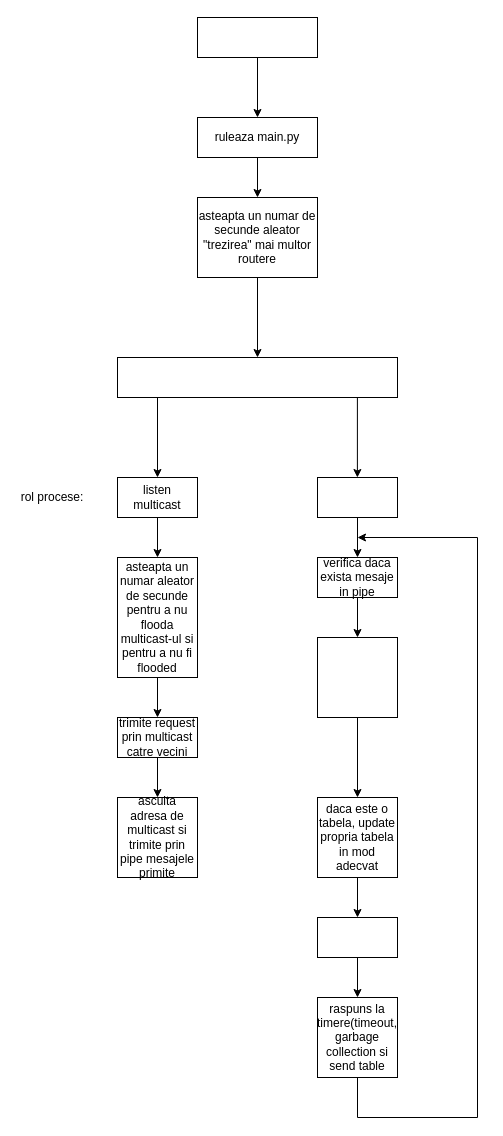
Some shapes in this 503 by 1136 pixel diagram are drawn without their labels. Each missing label, with the centre of its shape:
"creare 2 subprocese" belongs at point 257,377.
"daca exista request, trimite in mod direct tabela" belongs at point 357,677.
"Router" belongs at point 257,37.
"send multicast" belongs at point 357,497.
"verificare timere" belongs at point 357,937.
